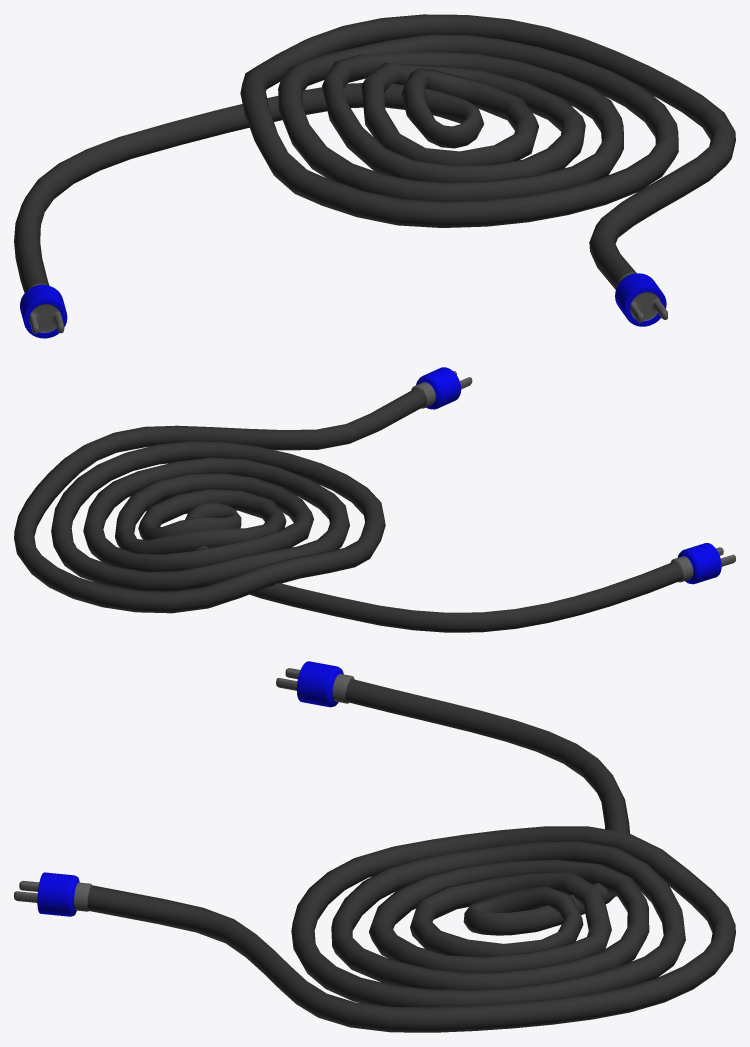
Rendered from PowerCord.fbx.
3 renders of one model, top to bottom at view 1: azimuth 30°, elevation 25°; view 2: azimuth 150°, elevation 25°; view 3: azimuth 270°, elevation 25°, orthographic. The views are drawn at different scales.
Parts seen in each view (by area): view 1: PowerCord; view 2: PowerCord; view 3: PowerCord.
Boxes of the visible parts, x1,y1,x2,y2 form: PowerCord: [14, 14, 735, 338]; PowerCord: [14, 367, 735, 632]; PowerCord: [14, 661, 735, 1032].
Bounding box in the file's own units: 6.04 × 0.3607 × 5.35.
